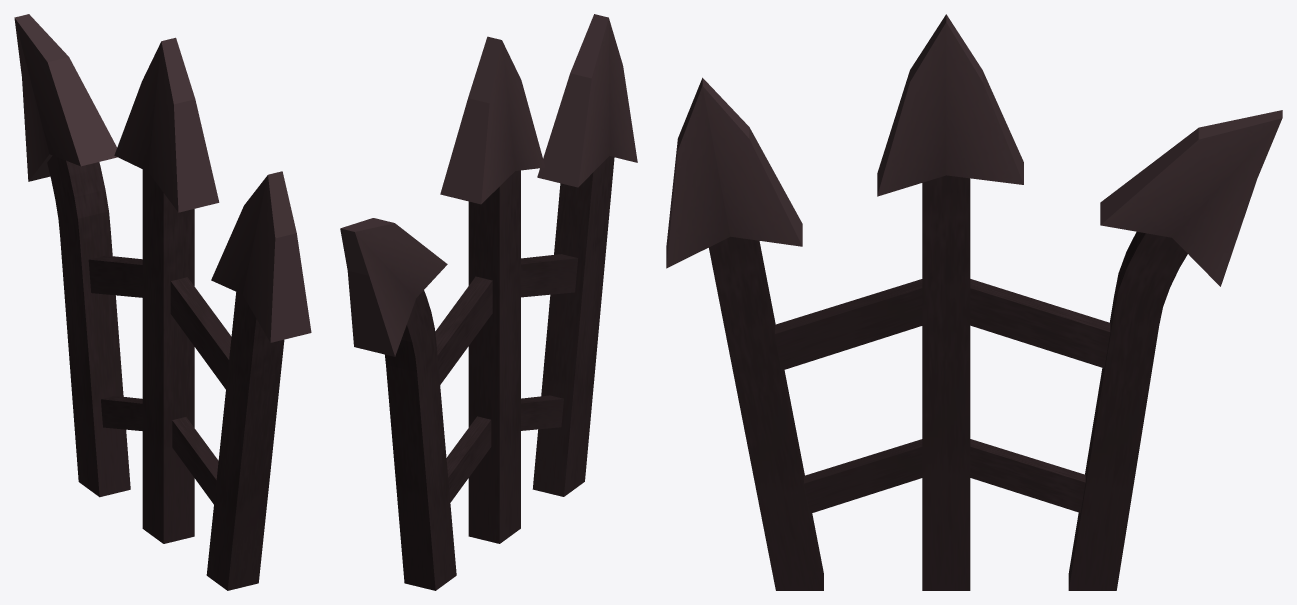
The model's file is F_Fence_2.fbx.
3 renders of one model, left to right at view 1: azimuth 30°, elevation 25°; view 2: azimuth 150°, elevation 25°; view 3: azimuth 270°, elevation 25°, orthographic. The views are drawn at different scales.
Parts seen in each view (by area): view 1: F_Fence_2; view 2: F_Fence_2; view 3: F_Fence_2.
Part boxes in pixels (box(x1,y1,x2,y2)): F_Fence_2: box(14, 14, 311, 590); F_Fence_2: box(340, 14, 637, 590); F_Fence_2: box(666, 14, 1282, 590).
Bounding box in the file's own units: 1.26 × 1.28 × 0.1109.
1 material, 1 textured.
